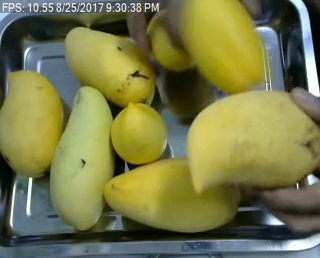Mango: (187, 90, 320, 196), (104, 156, 241, 231), (50, 85, 113, 230), (177, 0, 264, 90), (64, 27, 154, 108), (0, 68, 63, 180), (144, 7, 205, 69), (111, 103, 168, 163)
